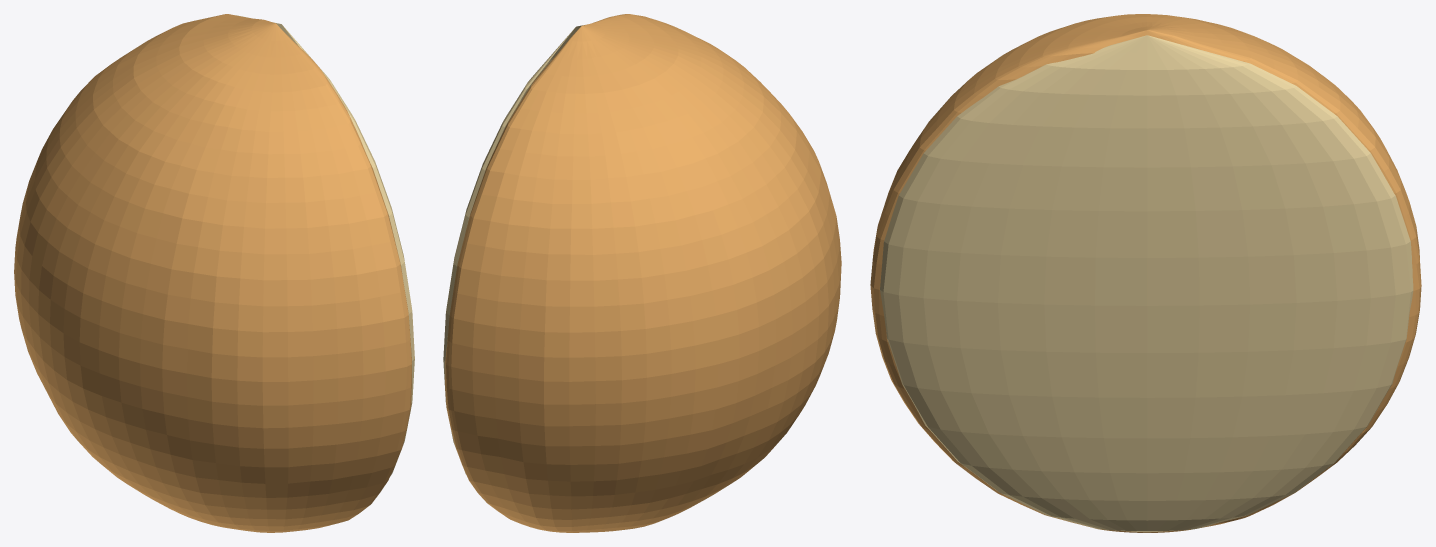
File: Onion.fbx
The picture shows the model from 3 angles, left to right: view 1: azimuth 30°, elevation 25°; view 2: azimuth 150°, elevation 25°; view 3: azimuth 270°, elevation 25°; orthographic projection. The views are drawn at different scales.
Visible parts, largest first — view 1: Sphere, Sphere.001; view 2: Sphere, Sphere.001; view 3: Sphere.001, Sphere.
Part boxes in pixels (left/top/right/bottom): Sphere: left=14, top=14, right=411, bottom=532; Sphere.001: left=236, top=15, right=414, bottom=474; Sphere: left=445, top=14, right=841, bottom=532; Sphere.001: left=443, top=24, right=585, bottom=473; Sphere.001: left=880, top=35, right=1413, bottom=532; Sphere: left=870, top=14, right=1421, bottom=532.
Size of the model in its own units: 118 by 204 by 203.
